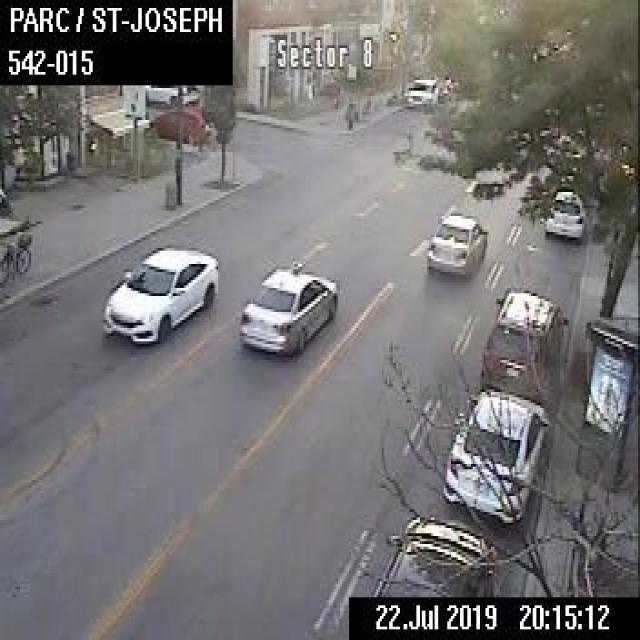vehicle: (438, 386, 547, 523), (98, 240, 220, 344), (373, 512, 495, 595), (480, 287, 568, 401), (236, 262, 340, 358), (426, 208, 488, 277), (149, 103, 211, 145), (542, 188, 585, 239), (144, 82, 198, 106), (400, 76, 438, 107)
